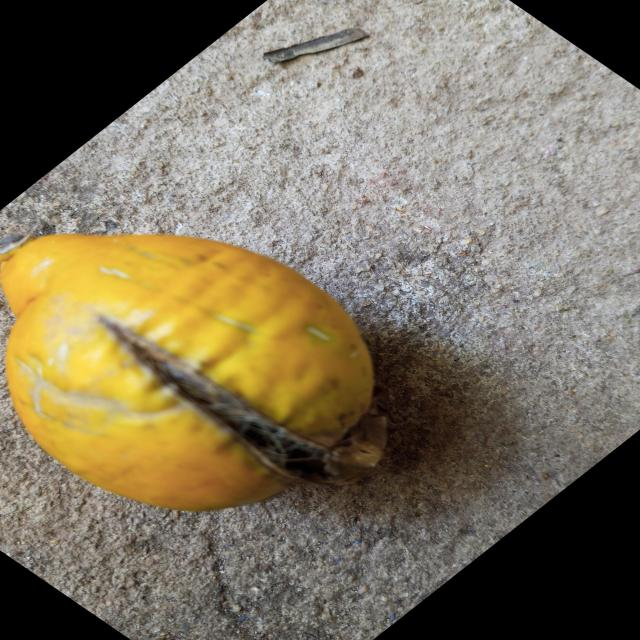damaged: (0, 233, 388, 515)
